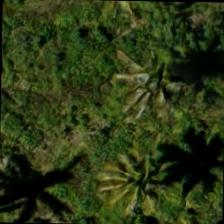Kelapa_Sawit: (98, 40, 190, 132)
